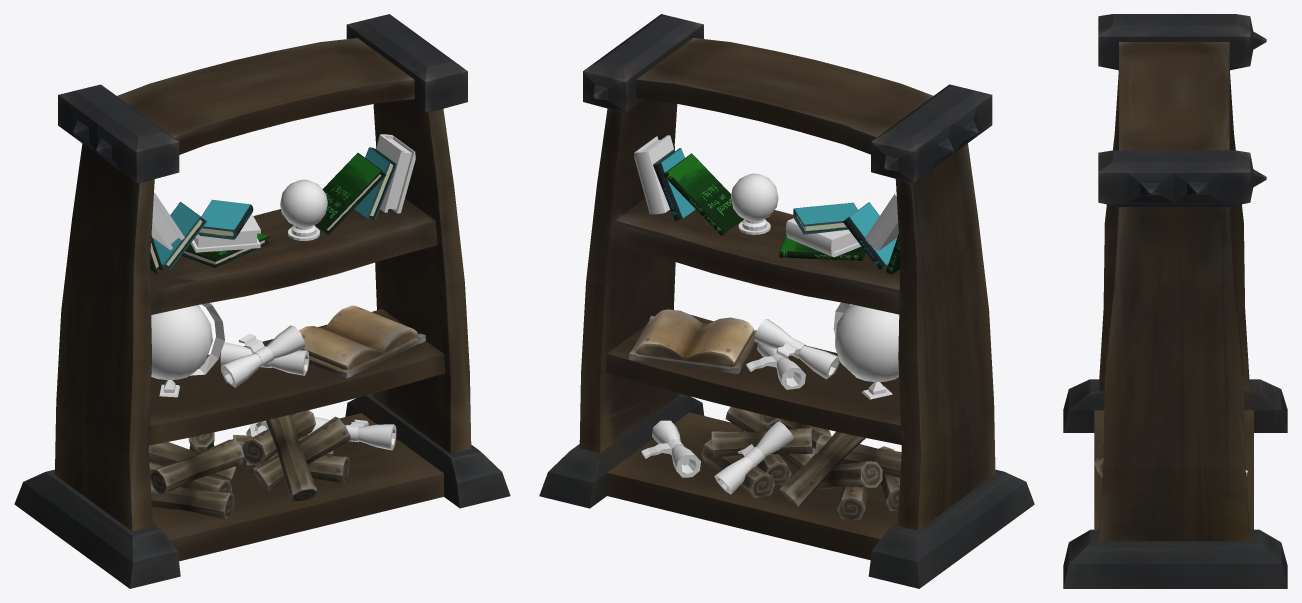
The model's file is SM_szafa_1.fbx.
The picture shows the model from 3 angles, left to right: view 1: azimuth 30°, elevation 25°; view 2: azimuth 150°, elevation 25°; view 3: azimuth 270°, elevation 25°; orthographic projection. The views are drawn at different scales.
Visible parts, largest first — view 1: polka_pierdoly.002, rulony.001, rulony, ksiazka otwarta.002, globus, ksiazka_chuda, Sphere001, Cylinder005.001, ksiazka_gruba, ksiazka_mala.001, ksiazka_mala.002, Cylinder005.003 (+5 smaller); view 2: polka_pierdoly.002, rulony, ksiazka otwarta.002, rulony.001, globus, ksiazka_chuda, Sphere001, Cylinder005.001, Cylinder005.002, ksiazka_gruba, Cylinder005.003, ksiazka_mala.001 (+6 smaller); view 3: polka_pierdoly.002.
Part boxes in pixels (left/top/right/bottom): polka_pierdoly.002: left=14, top=14, right=510, bottom=588; rulony.001: left=233, top=410, right=350, bottom=501; rulony: left=148, top=432, right=244, bottom=518; ksiazka otwarta.002: left=299, top=305, right=425, bottom=378; globus: left=151, top=302, right=224, bottom=397; ksiazka_chuda: left=314, top=153, right=385, bottom=235; Sphere001: left=280, top=179, right=327, bottom=240; Cylinder005.001: left=221, top=325, right=304, bottom=387; ksiazka_gruba: left=376, top=134, right=415, bottom=213; ksiazka_mala.001: left=197, top=199, right=253, bottom=239; ksiazka_mala.002: left=152, top=202, right=207, bottom=269; Cylinder005.003: left=307, top=416, right=396, bottom=450; polka_pierdoly.002: left=539, top=14, right=1034, bottom=588; rulony: left=780, top=431, right=901, bottom=519; ksiazka otwarta.002: left=628, top=309, right=756, bottom=373; rulony.001: left=701, top=407, right=831, bottom=497; globus: left=833, top=302, right=899, bottom=399; ksiazka_chuda: left=663, top=153, right=743, bottom=235; Sphere001: left=730, top=173, right=778, bottom=234; Cylinder005.001: left=754, top=319, right=839, bottom=379; Cylinder005.002: left=714, top=421, right=794, bottom=494; ksiazka_gruba: left=634, top=135, right=673, bottom=214; Cylinder005.003: left=641, top=420, right=700, bottom=477; ksiazka_mala.001: left=793, top=202, right=857, bottom=234; polka_pierdoly.002: left=1063, top=14, right=1287, bottom=588.
Size of the model in its own units: 198 by 211 by 104.
